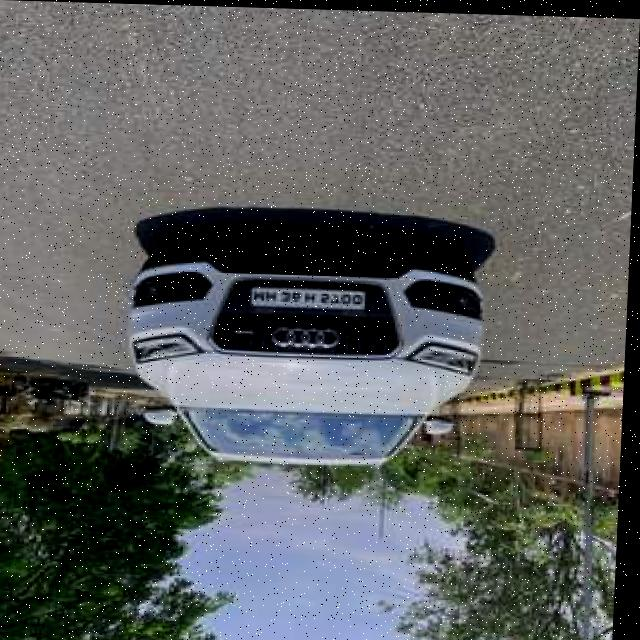plate: (253, 286, 371, 307)
